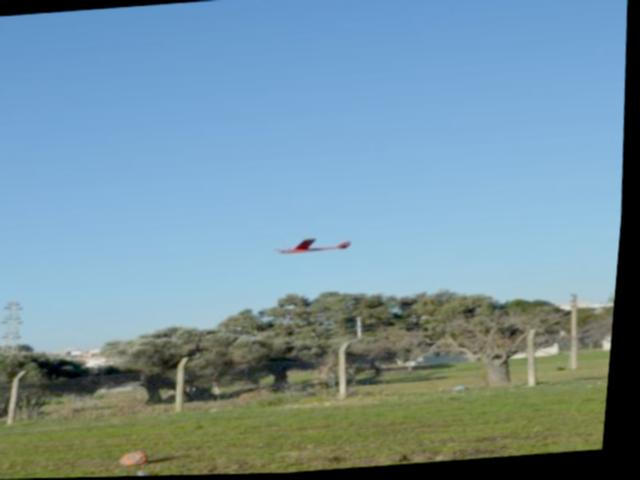iha: (273, 231, 358, 266)
